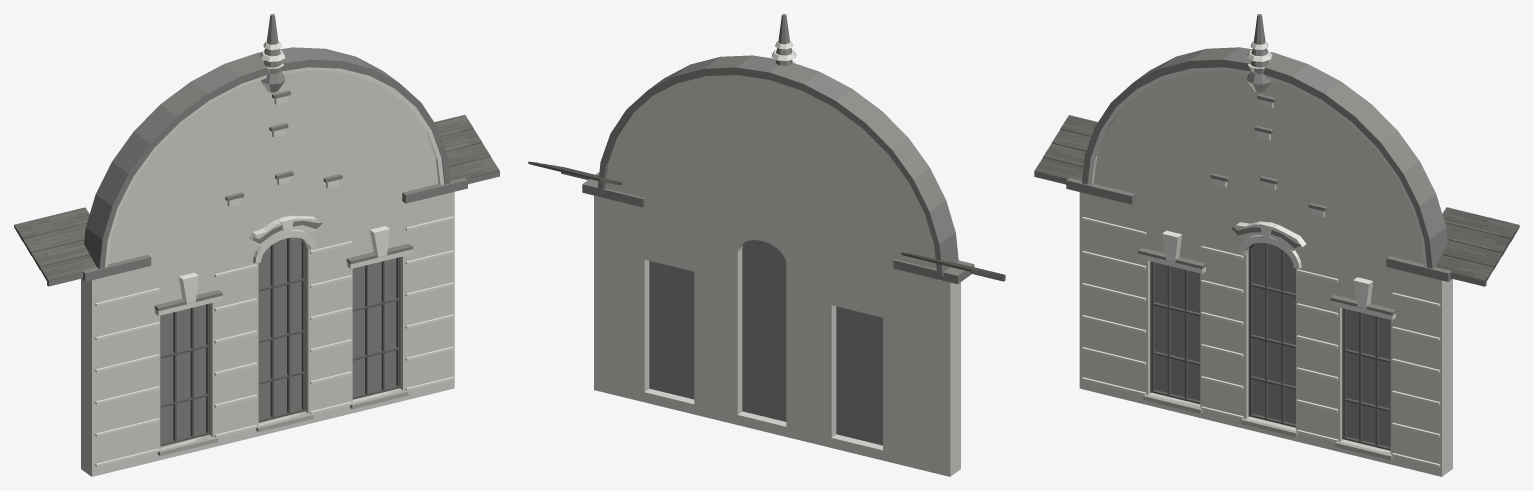
The model's file is hongkou-western-public-school-semicircular-gable-lod.glb.
3 views of the same model, side by side, from view 1: azimuth 30°, elevation 25°; view 2: azimuth 150°, elevation 25°; view 3: azimuth 330°, elevation 25° (orthographic).
Visible parts, largest first — view 1: 西童公学北四川路校舍半圆山墙与三联窗; view 2: 西童公学北四川路校舍半圆山墙与三联窗; view 3: 西童公学北四川路校舍半圆山墙与三联窗.
Part boxes in pixels (left/top/right/bottom): 西童公学北四川路校舍半圆山墙与三联窗: left=14, top=14, right=499, bottom=476; 西童公学北四川路校舍半圆山墙与三联窗: left=528, top=14, right=1005, bottom=476; 西童公学北四川路校舍半圆山墙与三联窗: left=1034, top=14, right=1519, bottom=476.
Size of the model in its own units: 10 by 8.86 by 1.56.
8 materials, 1 textured.
